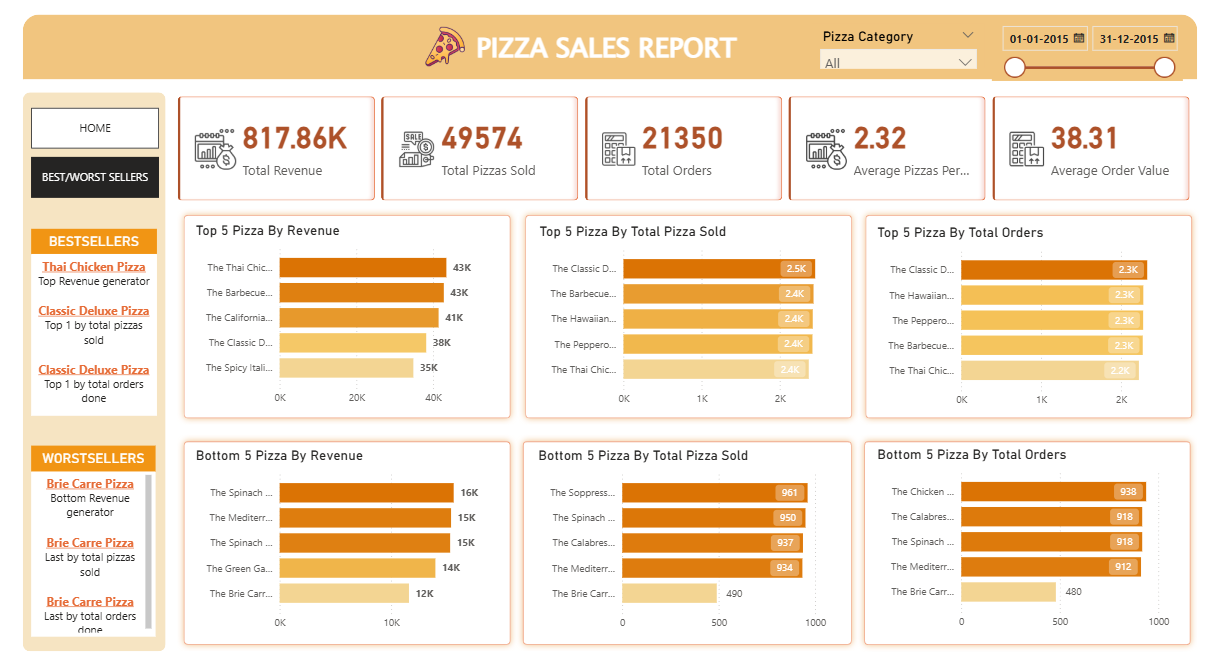

This screenshot's page, from the dashboard's own definition file:
{"tool":"powerbi","page":{"name":"BEST/WORST SELLERS","canvas":[1500,820],"ordinal":1},"visuals":[{"type":"shape","box":[27.5,112.7,175.6,686.6],"z":0},{"type":"cardVisual","fields":{"Data":["pizza_sales.Total Revenue","pizza_sales.Total Pizzas Sold","pizza_sales.Total Orders","pizza_sales.Average Pizzas Per Order","pizza_sales.Average Order Value"]},"box":[213.6,112.7,1256.6,138.9],"z":1000},{"type":"shape","box":[28,18,1442,80],"z":2000},{"type":"textbox","box":[560,30,378.3,60],"z":3000},{"type":"image","box":[515,28.3,63.3,58.3],"z":4000},{"type":"shape","box":[217.1,534.2,417.1,265.8],"z":5000},{"type":"shape","box":[634.2,534.2,419.7,265.8],"z":6000},{"type":"shape","box":[1053.5,533.3,416.7,266],"z":7000},{"type":"textbox","box":[37.5,280.6,154.2,31.9],"z":8000},{"type":"textbox","box":[37.8,312.2,154.1,198.6],"z":9000},{"type":"textbox","box":[37.8,578.4,152.7,204.1],"z":10000},{"type":"textbox","box":[38.6,547.1,152.9,31.4],"z":11000},{"type":"slicer","fields":{"Values":["pizza_sales.pizza_category"]},"box":[996.7,30,211.7,55],"z":12000},{"type":"slicer","fields":{"Values":["pizza_sales.order_date"]},"box":[1218.3,21.7,233.3,76.7],"z":13000},{"type":"shape","box":[217.1,256.6,417.1,265.8],"z":14000},{"type":"shape","box":[636.8,256.6,417.1,265.8],"z":15000},{"type":"shape","box":[1053.9,256.6,417.1,265.8],"z":16000},{"type":"barChart","title":"Top 5 Pizza By Revenue","fields":{"Category":["pizza_sales.pizza_name"],"Y":["pizza_sales.Total Revenue"]},"box":[234.7,272.2,379.2,234.7],"z":17000},{"type":"barChart","title":"Bottom 5 Pizza By Revenue","fields":{"Category":["pizza_sales.pizza_name"],"Y":["pizza_sales.Total Revenue"]},"box":[234.7,548.6,379.2,234.7],"z":18000},{"type":"barChart","title":"Top 5 Pizza By Total Pizza Sold","fields":{"Category":["pizza_sales.pizza_name"],"Y":["pizza_sales.Total Pizzas Sold"]},"box":[656.9,273.6,379.2,234.7],"z":19000},{"type":"barChart","title":"Bottom 5 Pizza By Total Pizza Sold","fields":{"Category":["pizza_sales.pizza_name"],"Y":["pizza_sales.Total Pizzas Sold"]},"box":[655.6,548.6,379.2,234.7],"z":20000},{"type":"barChart","title":"Top 5 Pizza By Total Orders","fields":{"Category":["pizza_sales.pizza_name"],"Y":["pizza_sales.Total Orders"]},"box":[1072.2,275,379.2,234.7],"z":21000},{"type":"barChart","title":"Bottom 5 Pizza By Total Orders","fields":{"Category":["pizza_sales.pizza_name"],"Y":["pizza_sales.Total Orders"]},"box":[1072.2,547.2,379.2,234.7],"z":22000},{"type":"pageNavigator","box":[37.8,132.2,157.8,50],"z":23000},{"type":"pageNavigator","box":[37.8,193.3,157.8,50],"z":24000}]}

Visuals, with their boxes in screenshot pixels (x1, y1, x2, y2), scaled from the page's 1500x820 canvas onto the 1219x666 screenshot:
shape: <region>22, 92, 165, 649</region>
cardVisual - pizza_sales.Total Revenue x pizza_sales.Total Pizzas Sold: <region>174, 92, 1195, 204</region>
shape: <region>23, 15, 1195, 80</region>
textbox: <region>455, 24, 763, 73</region>
image: <region>419, 23, 470, 70</region>
shape: <region>176, 434, 515, 650</region>
shape: <region>515, 434, 856, 650</region>
shape: <region>856, 433, 1195, 649</region>
textbox: <region>30, 228, 156, 254</region>
textbox: <region>31, 254, 156, 415</region>
textbox: <region>31, 470, 155, 636</region>
textbox: <region>31, 444, 156, 470</region>
slicer - pizza_sales.pizza_category: <region>810, 24, 982, 69</region>
slicer - pizza_sales.order_date: <region>990, 18, 1180, 80</region>
shape: <region>176, 208, 515, 424</region>
shape: <region>518, 208, 856, 424</region>
shape: <region>856, 208, 1195, 424</region>
"Top 5 Pizza By Revenue" barChart: <region>191, 221, 499, 412</region>
"Bottom 5 Pizza By Revenue" barChart: <region>191, 446, 499, 636</region>
"Top 5 Pizza By Total Pizza Sold" barChart: <region>534, 222, 842, 413</region>
"Bottom 5 Pizza By Total Pizza Sold" barChart: <region>533, 446, 841, 636</region>
"Top 5 Pizza By Total Orders" barChart: <region>871, 223, 1180, 414</region>
"Bottom 5 Pizza By Total Orders" barChart: <region>871, 444, 1180, 635</region>
pageNavigator: <region>31, 107, 159, 148</region>
pageNavigator: <region>31, 157, 159, 198</region>
